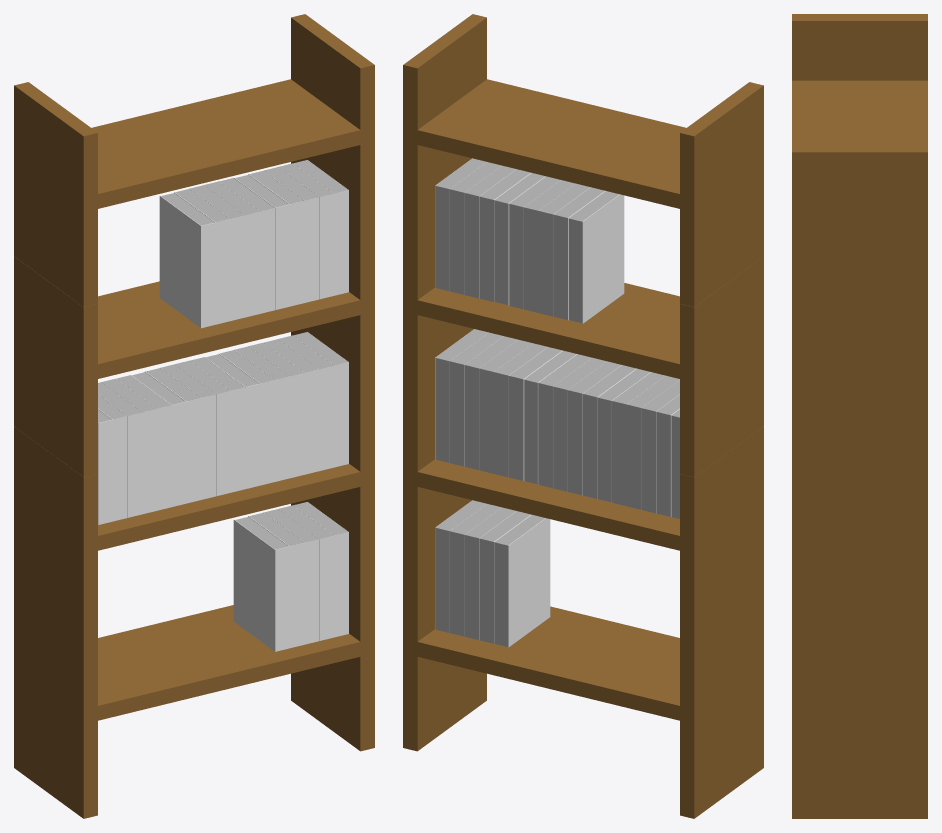
File: classroom_bookshelf.glb
3 views of the same model, side by side, from view 1: azimuth 30°, elevation 25°; view 2: azimuth 150°, elevation 25°; view 3: azimuth 270°, elevation 25° (orthographic). The views are drawn at different scales.
Visible parts, largest first — view 1: Cube.004, Cube.001, Cube, Cube.003, Cube.002, Book0.003, Book0, Book3.002, Book2.002, Book2.003, Book3, Book2 (+25 smaller); view 2: Cube.004, Cube.001, Cube, Cube.003, Cube.002, Book0.003, Book0, Book3.001, Book3.006, Book0.005, Book1.004, Book1.005 (+25 smaller); view 3: Cube, Cube.004.
Boxes of the visible parts, x1,y1,x2,y2 form: Cube.004: (14, 79, 360, 306); Cube.001: (14, 598, 360, 818); Cube: (291, 14, 374, 751); Cube.003: (14, 256, 360, 476); Cube.002: (14, 426, 360, 648); Book0.003: (159, 192, 215, 328); Book0: (233, 516, 289, 651); Book3.002: (278, 163, 334, 299); Book2.002: (263, 167, 319, 302); Book2.003: (189, 185, 245, 320); Book3: (278, 505, 334, 640); Book2: (263, 509, 319, 644); Cube.004: (417, 79, 763, 306); Cube.001: (417, 598, 763, 818); Cube: (403, 14, 486, 751); Cube.003: (417, 256, 763, 476); Cube.002: (417, 426, 763, 648); Book0.003: (568, 191, 624, 323); Book0: (494, 514, 550, 647); Book3.001: (626, 375, 679, 509); Book3.006: (449, 332, 503, 466); Book0.005: (523, 350, 577, 484); Book1.004: (582, 365, 636, 498); Book1.005: (508, 347, 562, 480); Cube: (792, 145, 927, 818); Cube.004: (792, 14, 927, 145).
Size of the model in its own units: 0.8921 by 2 by 0.3693.
